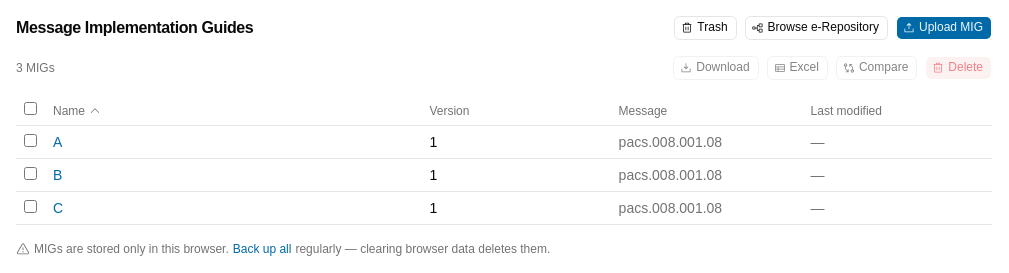
it: MigHome › Compare is enabled only with exactly two same-family MIGs selected
Expected: the table is shown, x1=16 y1=96 x2=992 y2=225
Expected: the button "Compare" is disabled, x1=836 y1=56 x2=917 y2=80
Click the checkbox named "Select A 1": (30, 140) x1=24 y1=134 x2=37 y2=147
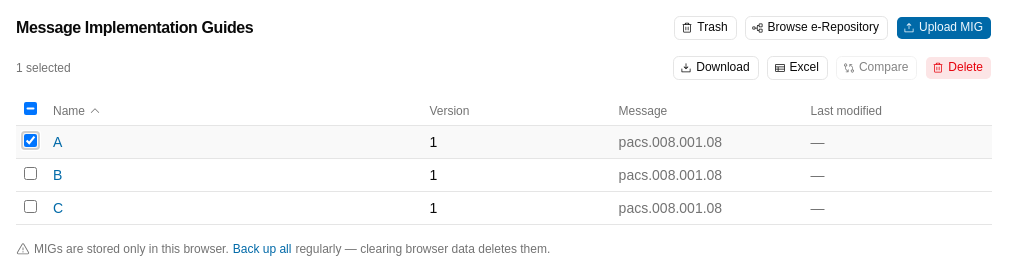
Expected: the button "Compare" is disabled, x1=836 y1=56 x2=917 y2=80
Click the checkbox named "Select B 1": (30, 174) x1=24 y1=167 x2=37 y2=180
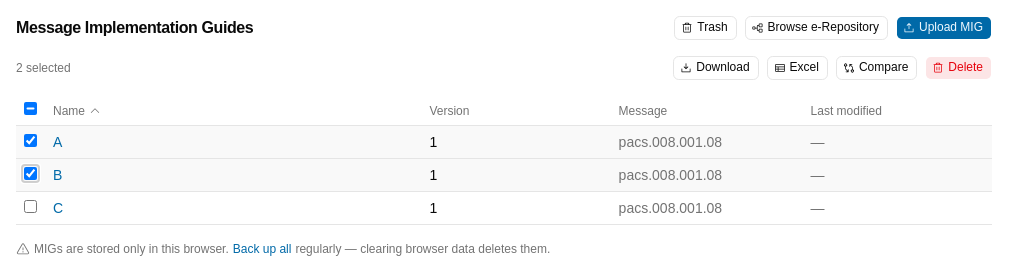
Expected: the button "Compare" is enabled, x1=836 y1=56 x2=917 y2=80
Click the checkbox named "Select C 1": (30, 206) x1=24 y1=200 x2=37 y2=213
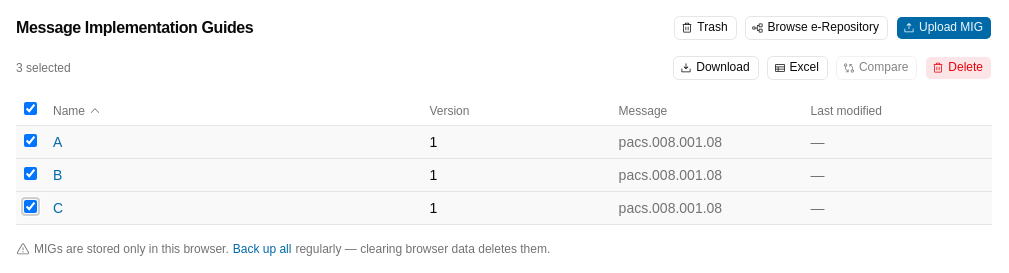
Expected: the button "Compare" is disabled, x1=836 y1=56 x2=917 y2=80
